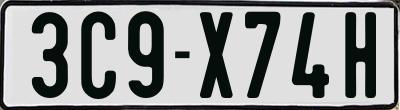3: (31, 9, 69, 99)
4: (289, 10, 326, 98)
7: (243, 12, 278, 99)
9: (126, 11, 162, 98)
C: (80, 8, 120, 98)
H: (342, 9, 378, 95)
X: (197, 12, 236, 101)
